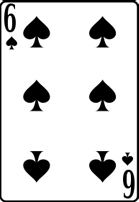six of spades: (1, 1, 139, 201)
